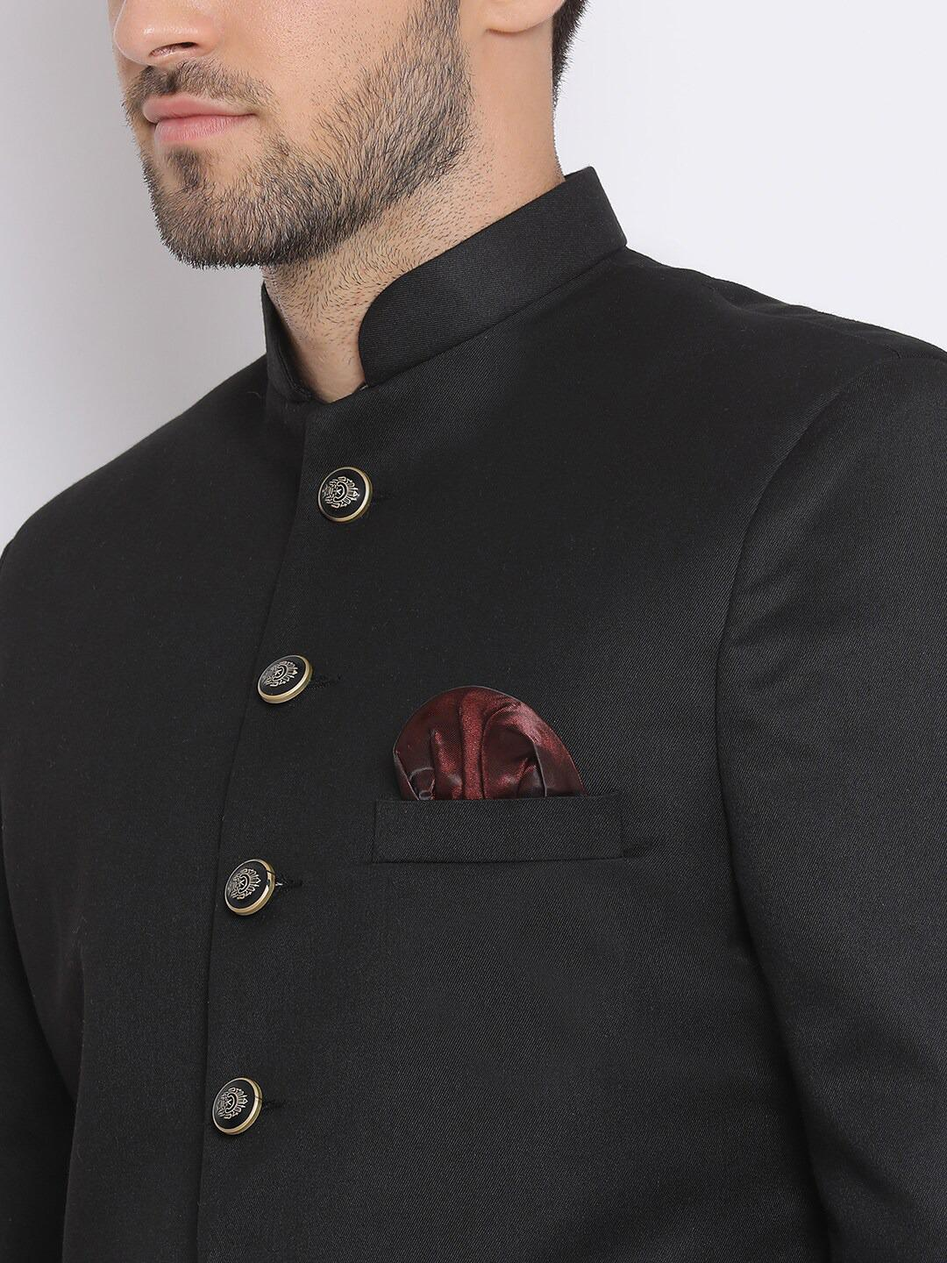Plain sherwani: (5, 166, 946, 1256)
